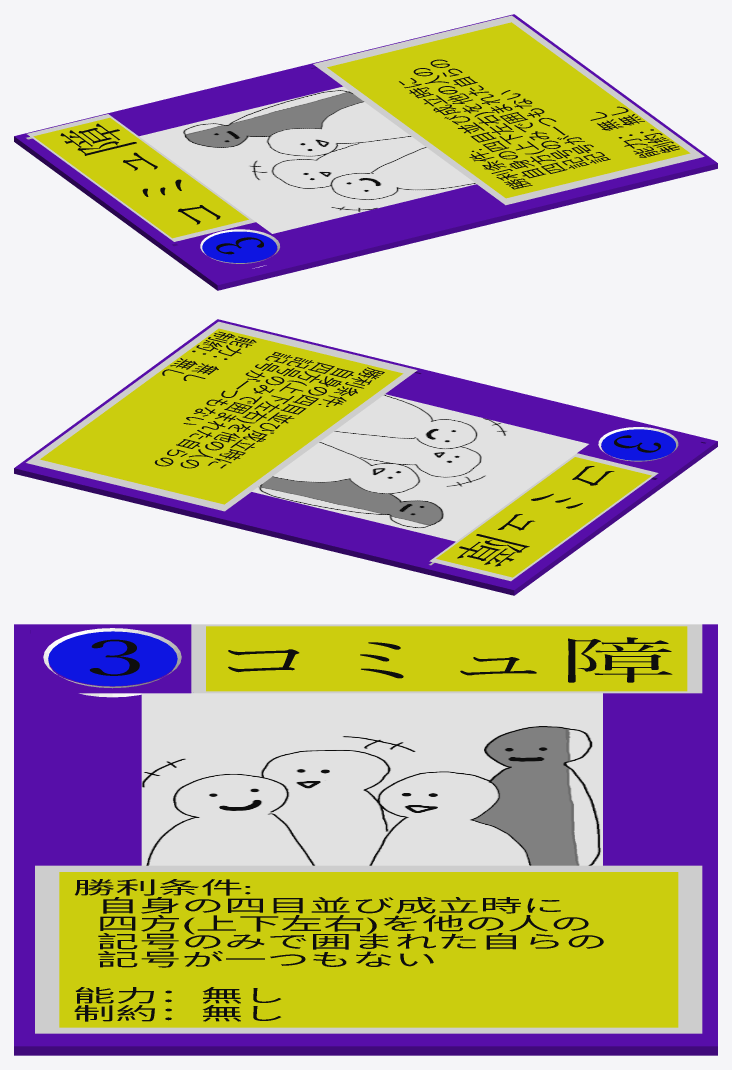
File: コミュ障紫.fbx
The picture shows the model from 3 angles, top to bottom: view 1: azimuth 30°, elevation 25°; view 2: azimuth 150°, elevation 25°; view 3: azimuth 270°, elevation 25°; orthographic projection. The views are drawn at different scales.
Visible parts, largest first — view 1: 説明欄, 平面.001, カード本体.001, 名前欄, 説明文, 円, 平面, 名前; view 2: 説明欄, 平面.001, カード本体.001, 名前欄, 説明文, 円, 平面, 名前; view 3: 説明欄, 平面.001, カード本体.001, 名前欄, 説明文, 円, 平面, 名前, コスト蘭.
Boxes of the visible parts, box(x1,y1,x2,y2) form: 説明欄: box(313, 15, 704, 205); 平面.001: box(139, 86, 476, 233); カード本体.001: box(14, 14, 717, 290); 名前欄: box(27, 114, 255, 241); 説明文: box(399, 59, 679, 189); 円: box(202, 231, 276, 262); 平面: box(174, 222, 302, 275); 名前: box(60, 123, 220, 224); 説明欄: box(26, 321, 417, 511); 平面.001: box(252, 394, 588, 541); カード本体.001: box(14, 319, 717, 595); 名前欄: box(429, 453, 658, 581); 説明文: box(154, 331, 384, 468); 円: box(601, 429, 675, 460); 平面: box(577, 419, 704, 472); 名前: box(457, 466, 614, 566); 説明欄: box(35, 865, 702, 1033); 平面.001: box(141, 693, 602, 865); カード本体.001: box(14, 624, 717, 1055); 名前欄: box(191, 624, 702, 693); 説明文: box(74, 879, 603, 1021); 円: box(48, 631, 177, 686); 平面: box(30, 624, 191, 693); 名前: box(228, 637, 672, 682); コスト蘭: box(43, 628, 181, 697).
Size of the model in its own units: 281 by 6.07 by 198.
